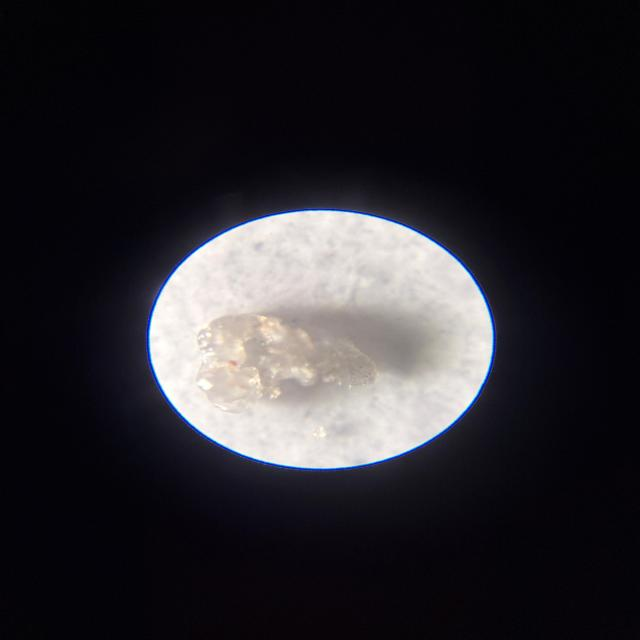microplastic_type_1: (196, 314, 377, 412)
